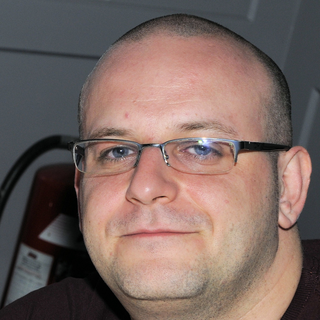eye: (97, 141, 142, 165), (178, 139, 222, 163)
